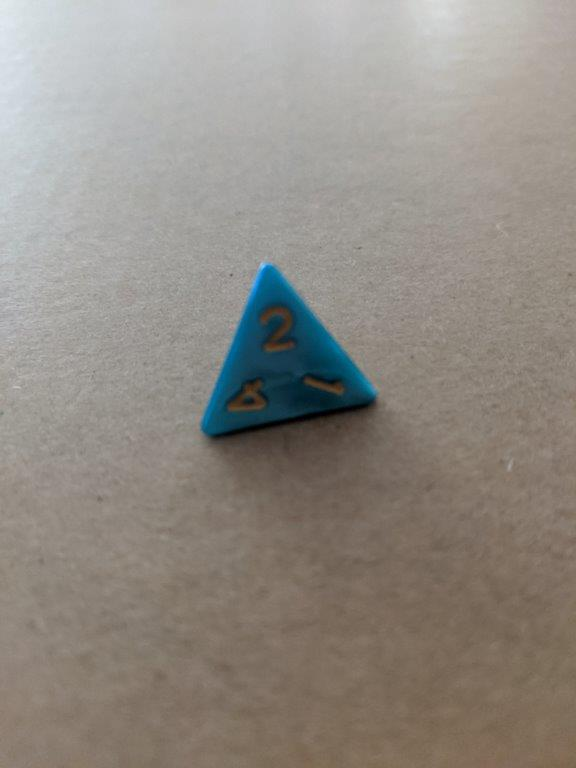d4-2: (193, 257, 383, 445)
